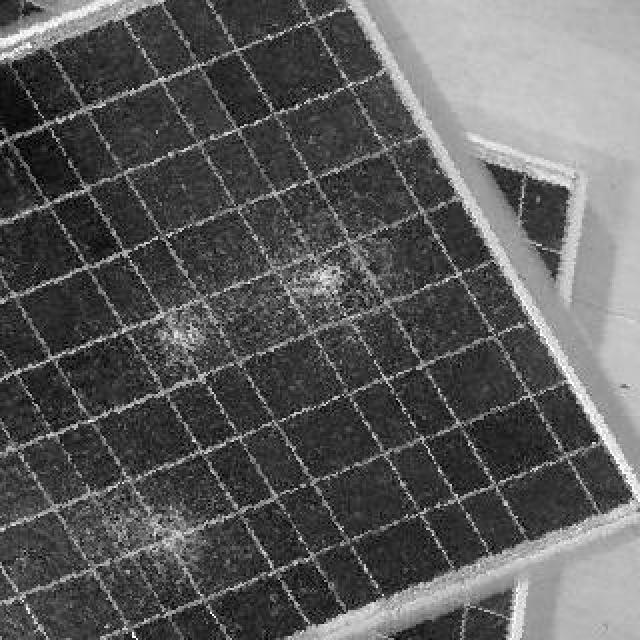Physical-damage: (264, 220, 408, 350), (124, 284, 238, 391), (100, 486, 207, 580)
